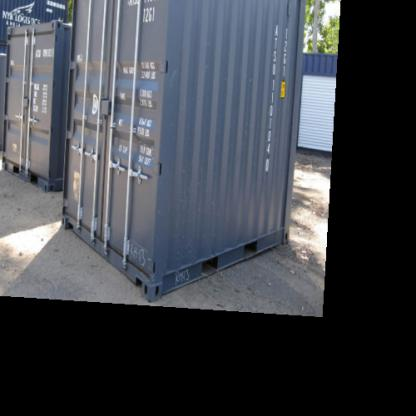Damage: (122, 239, 154, 277), (164, 54, 178, 94), (170, 262, 194, 282)
